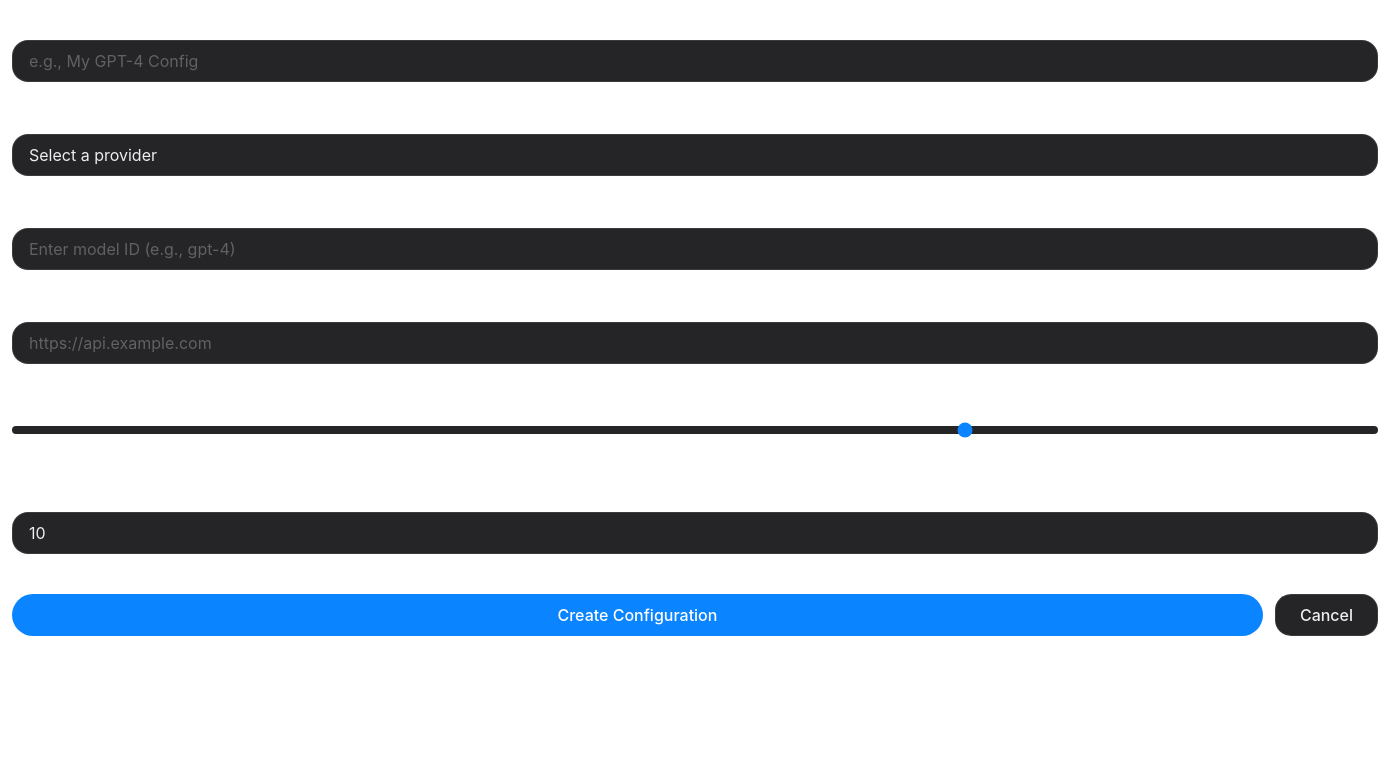
Test case: ConfigForm › Validation display › should show validation error for missing provider
The image size is (1390, 780).
Type "Test Config" into the field labelled "Configuration Name". click: {"x": 695, "y": 61}
box: [12, 40, 1378, 82]
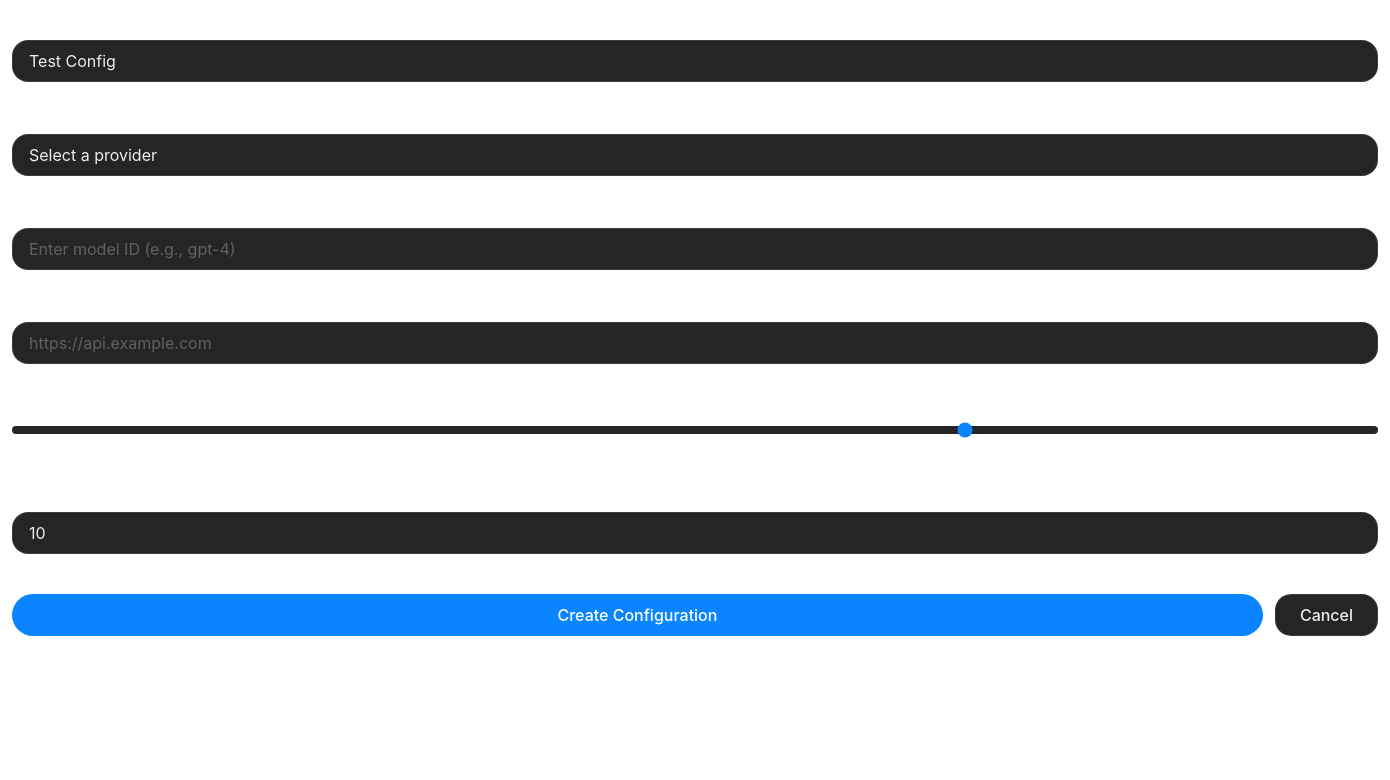
Click the button "Create Configuration". click: {"x": 637, "y": 615}
box: [12, 594, 1263, 636]
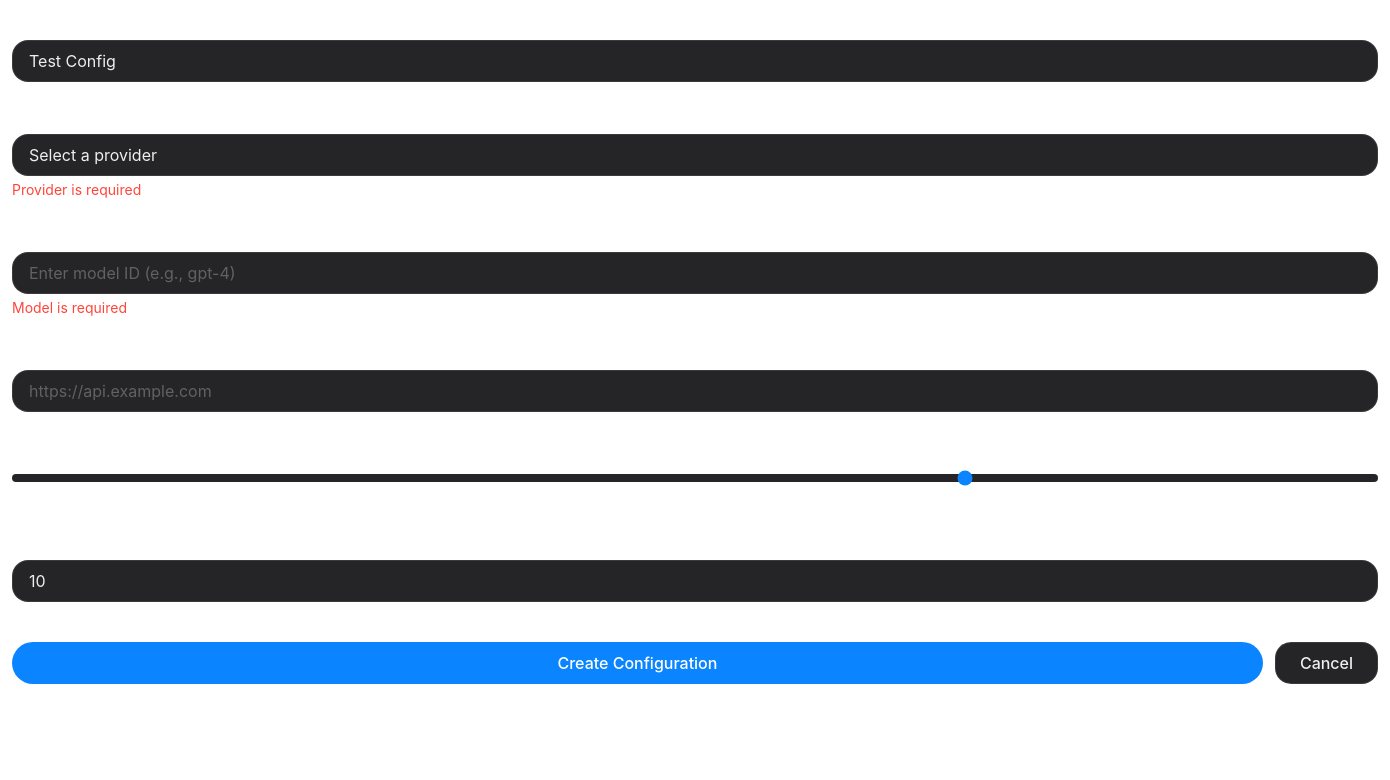
Check: the text "Provider is required" is shown, box [12, 181, 141, 198]
